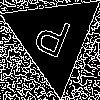P: (28, 12, 73, 68)
